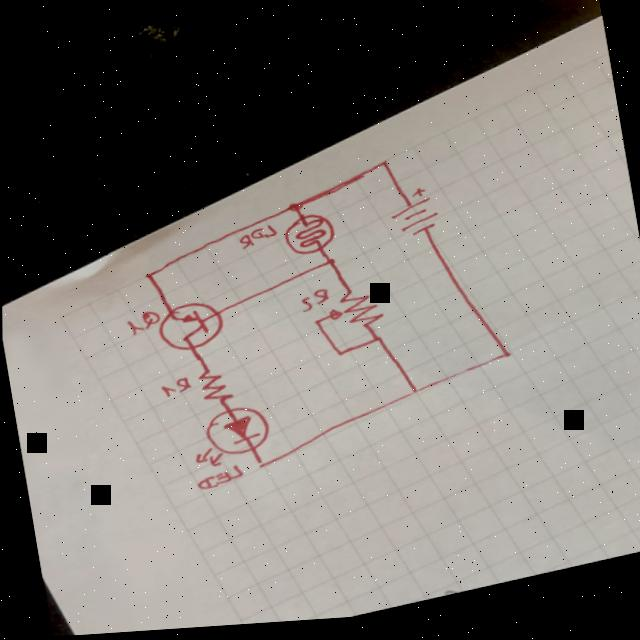diode: (184, 402, 274, 473)
junction: (286, 203, 303, 216), (253, 460, 266, 473), (141, 271, 156, 282), (324, 260, 337, 271), (407, 391, 420, 402), (500, 355, 512, 366), (370, 339, 382, 349), (310, 321, 322, 329), (378, 163, 389, 171), (334, 354, 345, 361)
resistor: (309, 291, 389, 342), (278, 211, 339, 263), (193, 366, 235, 411)
source: (383, 188, 444, 247)
text: (194, 465, 244, 494), (235, 225, 279, 253), (122, 309, 162, 338), (158, 376, 193, 402), (297, 291, 329, 317)
transistor: (152, 297, 226, 359)
